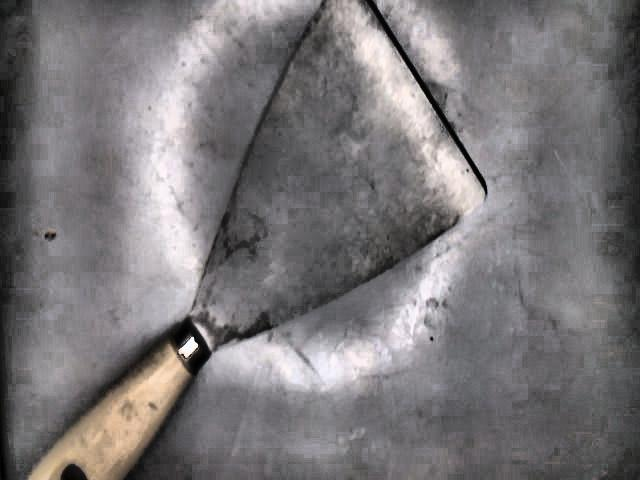Almennt: (25, 0, 491, 480)
